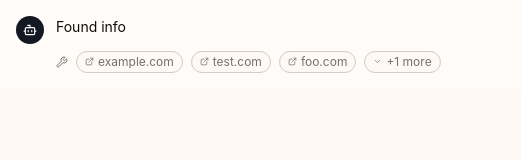
Scenario: MessageCard › expands to show all sources when expand clicked
Click the button "+1 more" at (403, 62), box [364, 51, 441, 73]
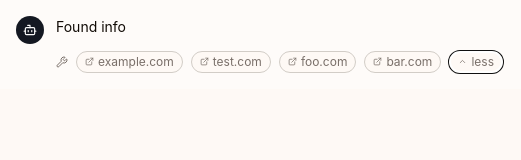
Expected: the button "bar.com" is shown, [364, 51, 441, 73]
Expected: the button "less" is shown, [449, 51, 503, 73]
